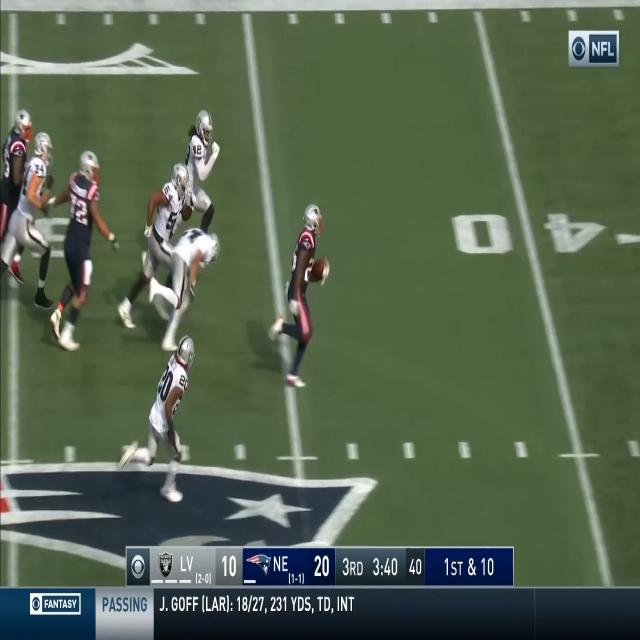football: (311, 258, 326, 282)
players: (118, 175, 208, 342), (51, 152, 118, 352), (116, 336, 195, 503), (269, 197, 330, 388), (9, 129, 58, 315), (148, 228, 220, 352), (0, 110, 34, 283), (179, 110, 220, 232)
